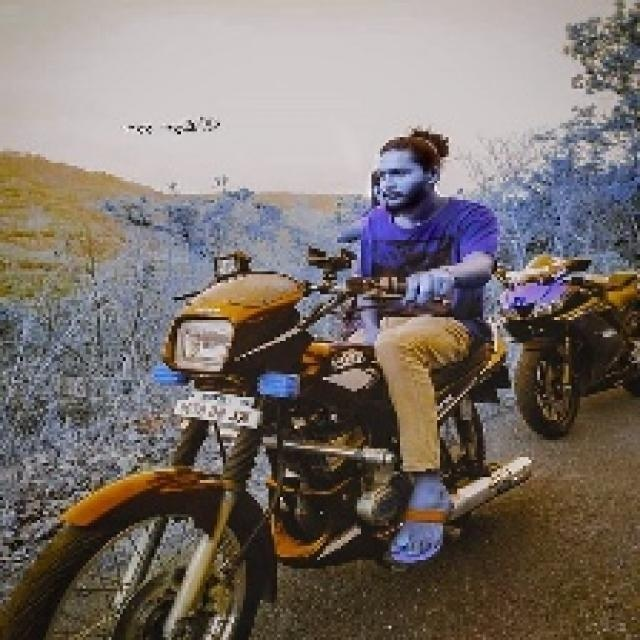Motorcycle: (10, 264, 405, 638), (496, 247, 634, 435)
